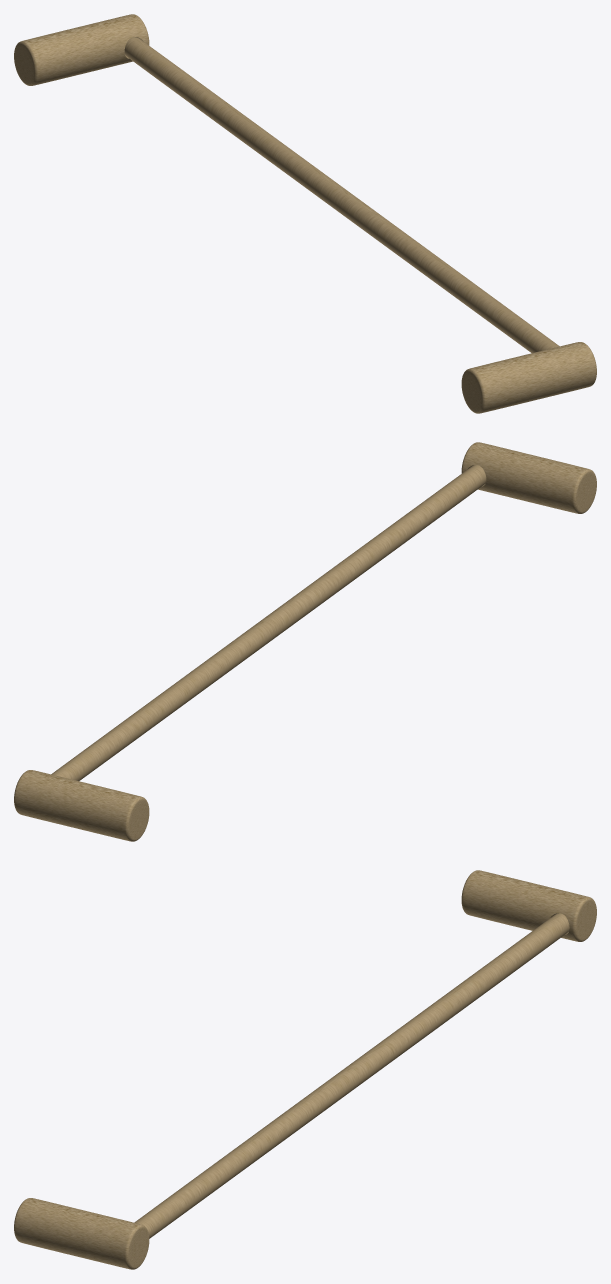
The picture shows the model from 3 angles, top to bottom: view 1: azimuth 30°, elevation 25°; view 2: azimuth 150°, elevation 25°; view 3: azimuth 330°, elevation 25°; orthographic projection.
Parts seen in each view (by area): view 1: Cylinder, Circle.001; view 2: Cylinder, Circle.001; view 3: Circle.001, Cylinder.
Boxes of the visible parts, box(x1,y1,x2,y2) form: Cylinder: box(14, 14, 596, 413); Circle.001: box(124, 37, 559, 352); Cylinder: box(14, 442, 596, 841); Circle.001: box(51, 465, 486, 780); Circle.001: box(134, 913, 569, 1238); Cylinder: box(14, 870, 596, 1269).
Bounding box in the file's own units: 0.0831 × 0.0291 × 0.5891.
1 material, 1 textured.
